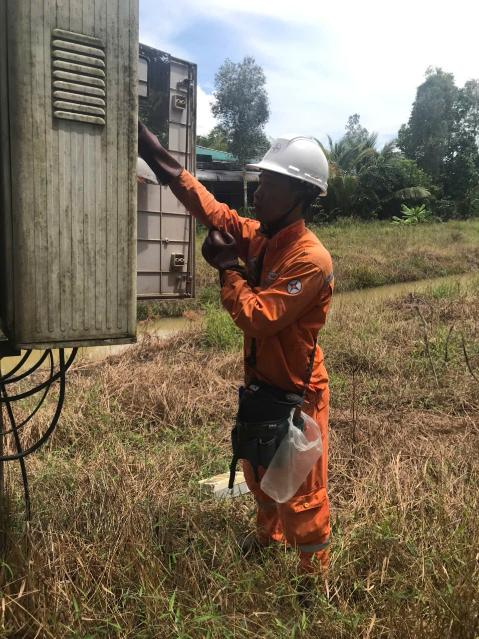gloves: (115, 110, 188, 195), (195, 221, 255, 283)
helmet: (241, 122, 342, 201)
